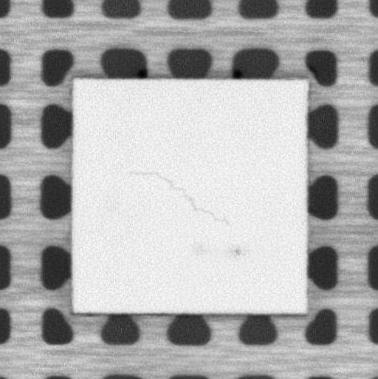DIE_CRACK: (126, 169, 232, 226)
